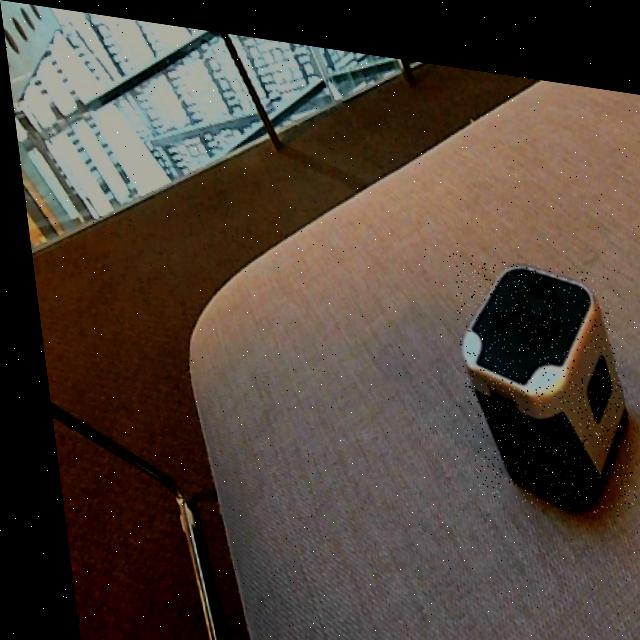adapter: (444, 239, 628, 501)
